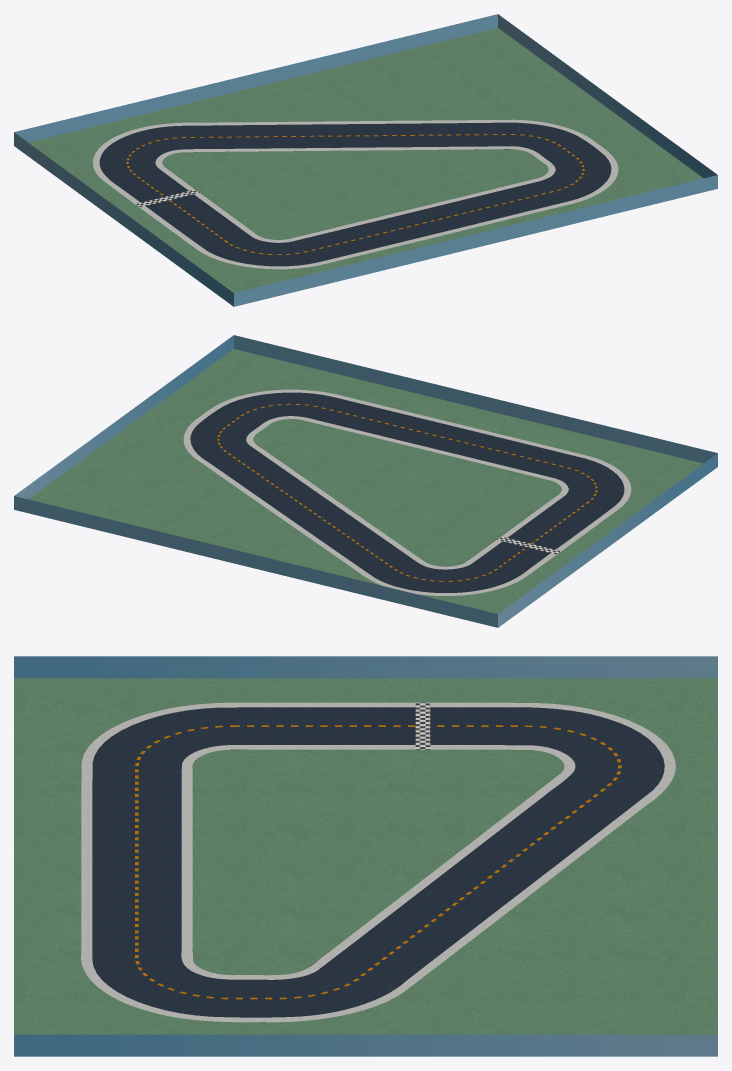
The picture shows the model from 3 angles, top to bottom: view 1: azimuth 30°, elevation 25°; view 2: azimuth 150°, elevation 25°; view 3: azimuth 270°, elevation 25°; orthographic projection. The views are drawn at different scales.
Visible parts, largest first — view 1: field, road, wall, ol, il, cl; view 2: field, road, wall, ol, il, cl; view 3: field, road, wall, ol, il, cl, start_line.
Boxes of the visible parts, left/top/right/bottom form: field: left=28, top=28, right=703, bottom=292; road: left=99, top=122, right=611, bottom=266; wall: left=14, top=14, right=717, bottom=306; ol: left=93, top=119, right=618, bottom=269; il: left=155, top=146, right=555, bottom=242; cl: left=126, top=134, right=584, bottom=254; field: left=28, top=349, right=703, bottom=613; road: left=190, top=392, right=624, bottom=592; wall: left=14, top=335, right=717, bottom=627; ol: left=183, top=389, right=631, bottom=595; il: left=246, top=416, right=568, bottom=569; cl: left=217, top=403, right=597, bottom=581; field: left=14, top=678, right=717, bottom=1034; road: left=92, top=707, right=664, bottom=1022; wall: left=14, top=656, right=717, bottom=1056; ol: left=81, top=702, right=675, bottom=1022; il: left=181, top=745, right=575, bottom=979; cl: left=135, top=725, right=621, bottom=999; start_line: left=415, top=702, right=430, bottom=749.
Size of the model in its own units: 73.3 by 57.67 by 2.
Materials: 7 (7 with a texture image).
